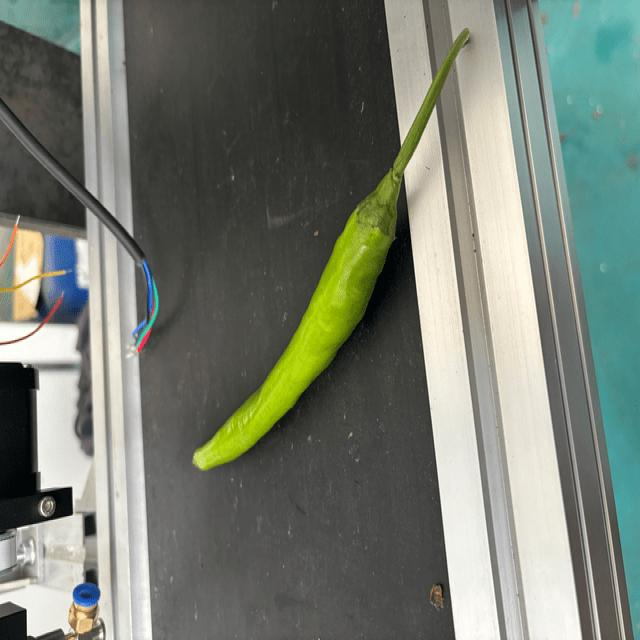chili: (188, 189, 401, 470)
